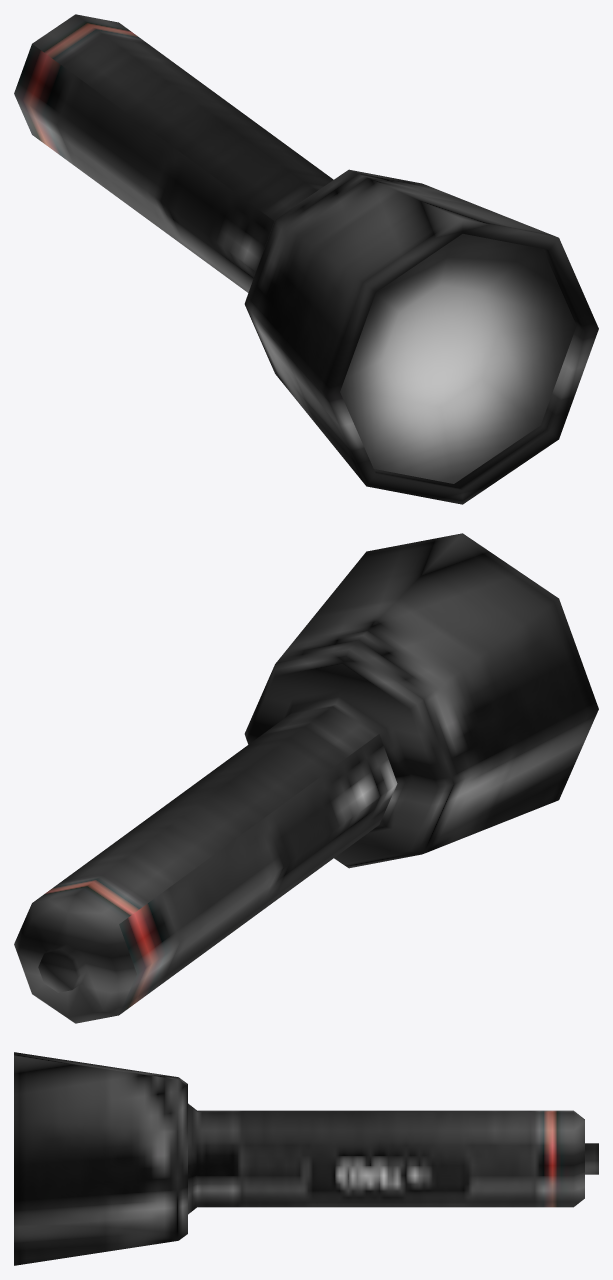
The model's file is flashlight.fbx.
3 renders of one model, top to bottom at view 1: azimuth 30°, elevation 25°; view 2: azimuth 150°, elevation 25°; view 3: azimuth 270°, elevation 25°, orthographic. The views are drawn at different scales.
Visible parts, largest first — view 1: flashlight; view 2: flashlight; view 3: flashlight.
Boxes of the visible parts, x1,y1,x2,y2 form: flashlight: (14, 14, 598, 504); flashlight: (14, 533, 598, 1023); flashlight: (14, 1052, 598, 1265).
Size of the model in its own units: 0.086 by 0.086 by 0.2211.
